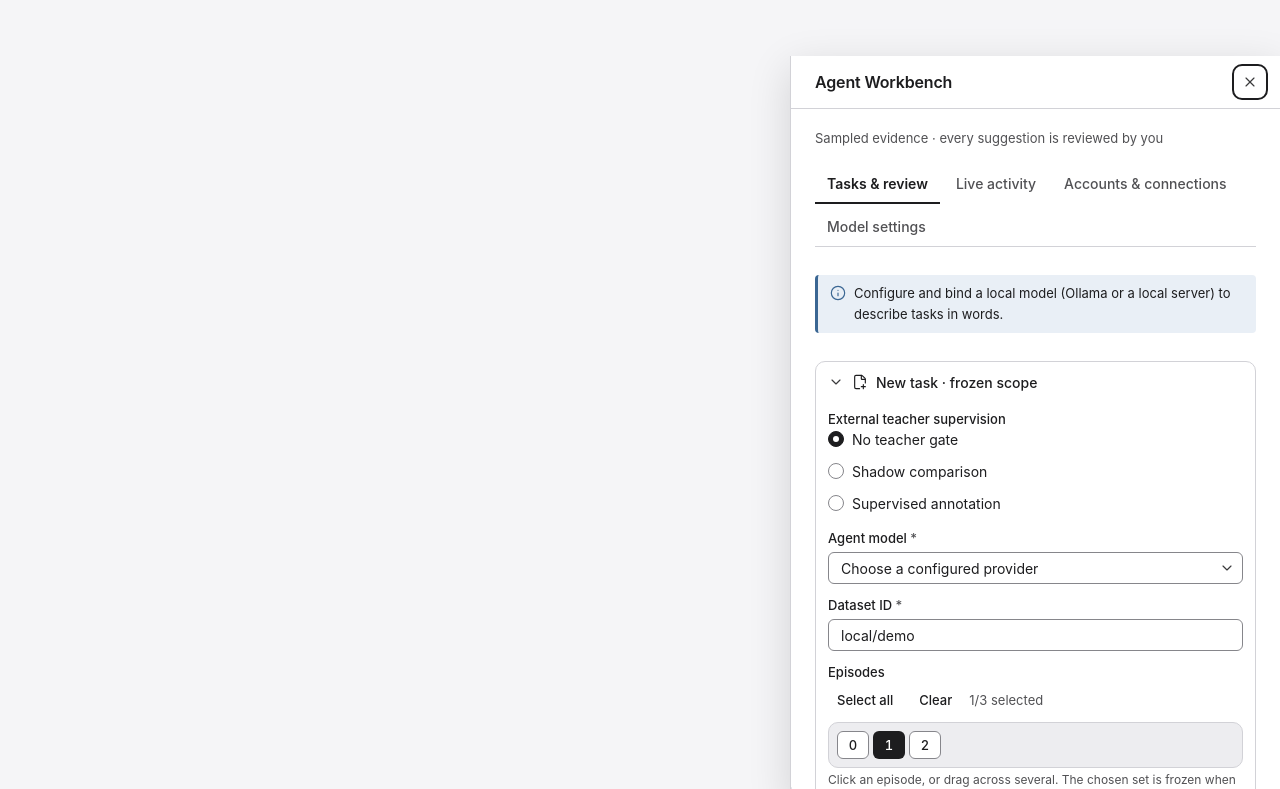
Test case: the plan form needs an episode › clearing the episode chips blocks Inspect & create plan with a reason
This screenshot has width=1280, height=789.
What coordinates should you click on to do the following:
click the button "Clear"
I would click on:
 (936, 700)
Its box is left=910, top=686, right=961, bottom=714.
(page scrolled)
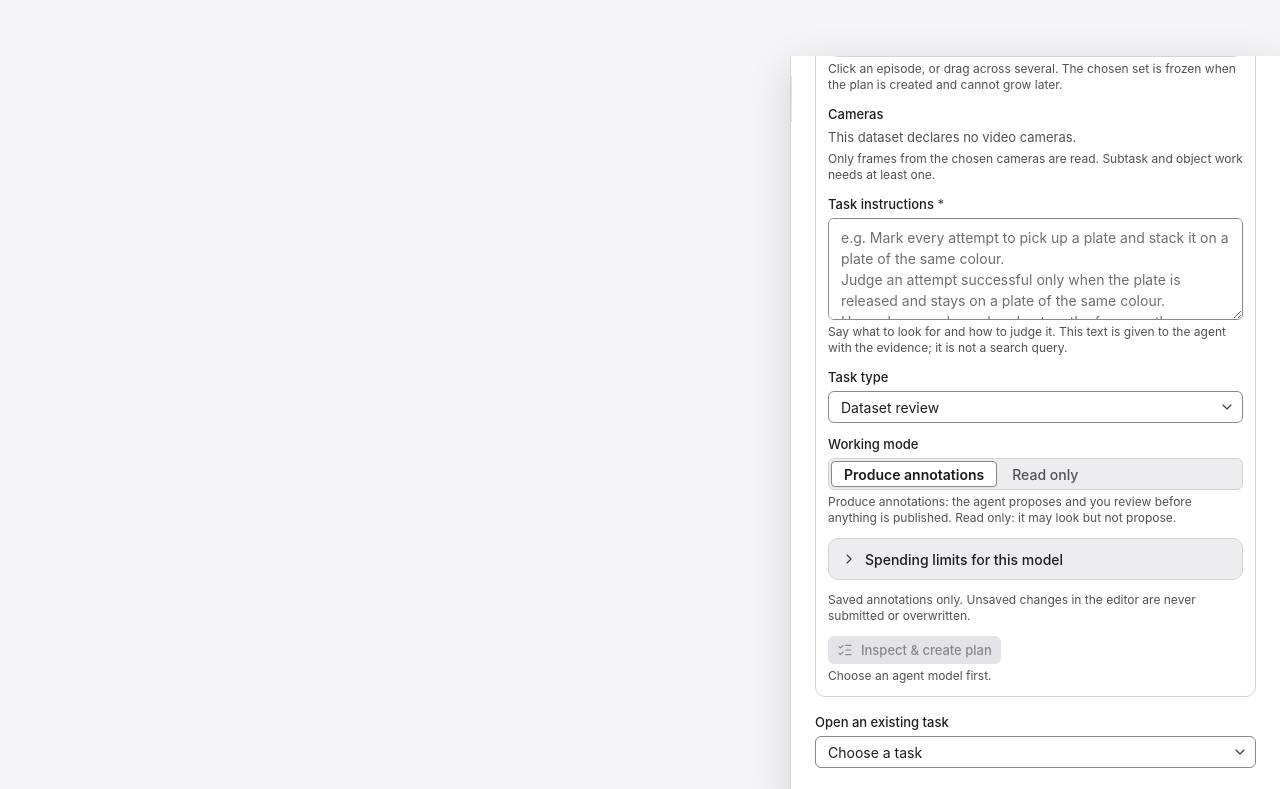
Expected: the button "Inspect & create plan" is disabled, left=828, top=636, right=1001, bottom=664
Expected: the text "Choose an agent model first." is shown, left=828, top=668, right=992, bottom=684
